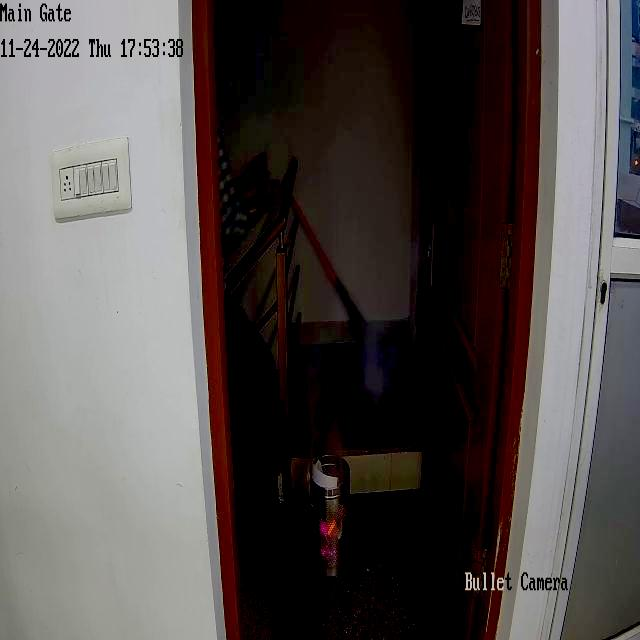fire: (323, 512, 333, 542)
smoke: (360, 326, 408, 404), (374, 220, 421, 298), (295, 352, 327, 438), (359, 198, 394, 276), (306, 282, 329, 350), (318, 388, 345, 445), (321, 192, 344, 238)
